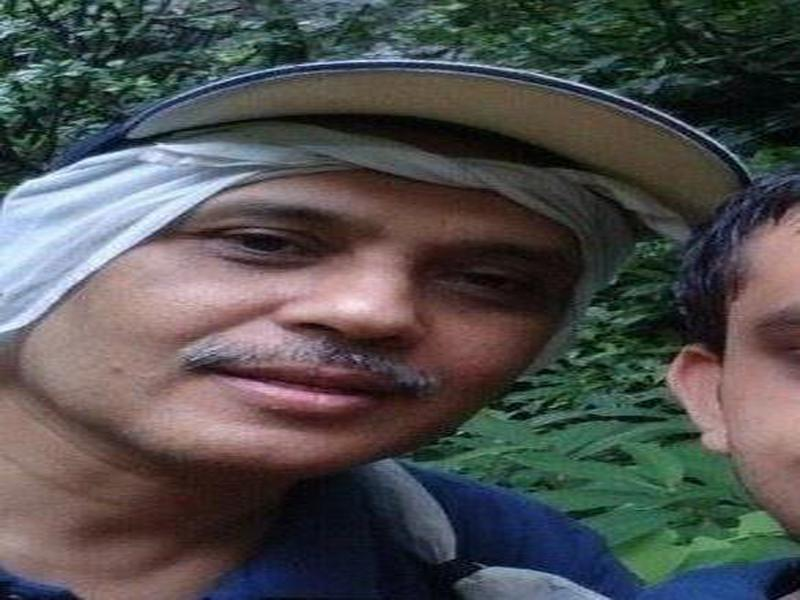without_mask: (49, 167, 576, 476)
